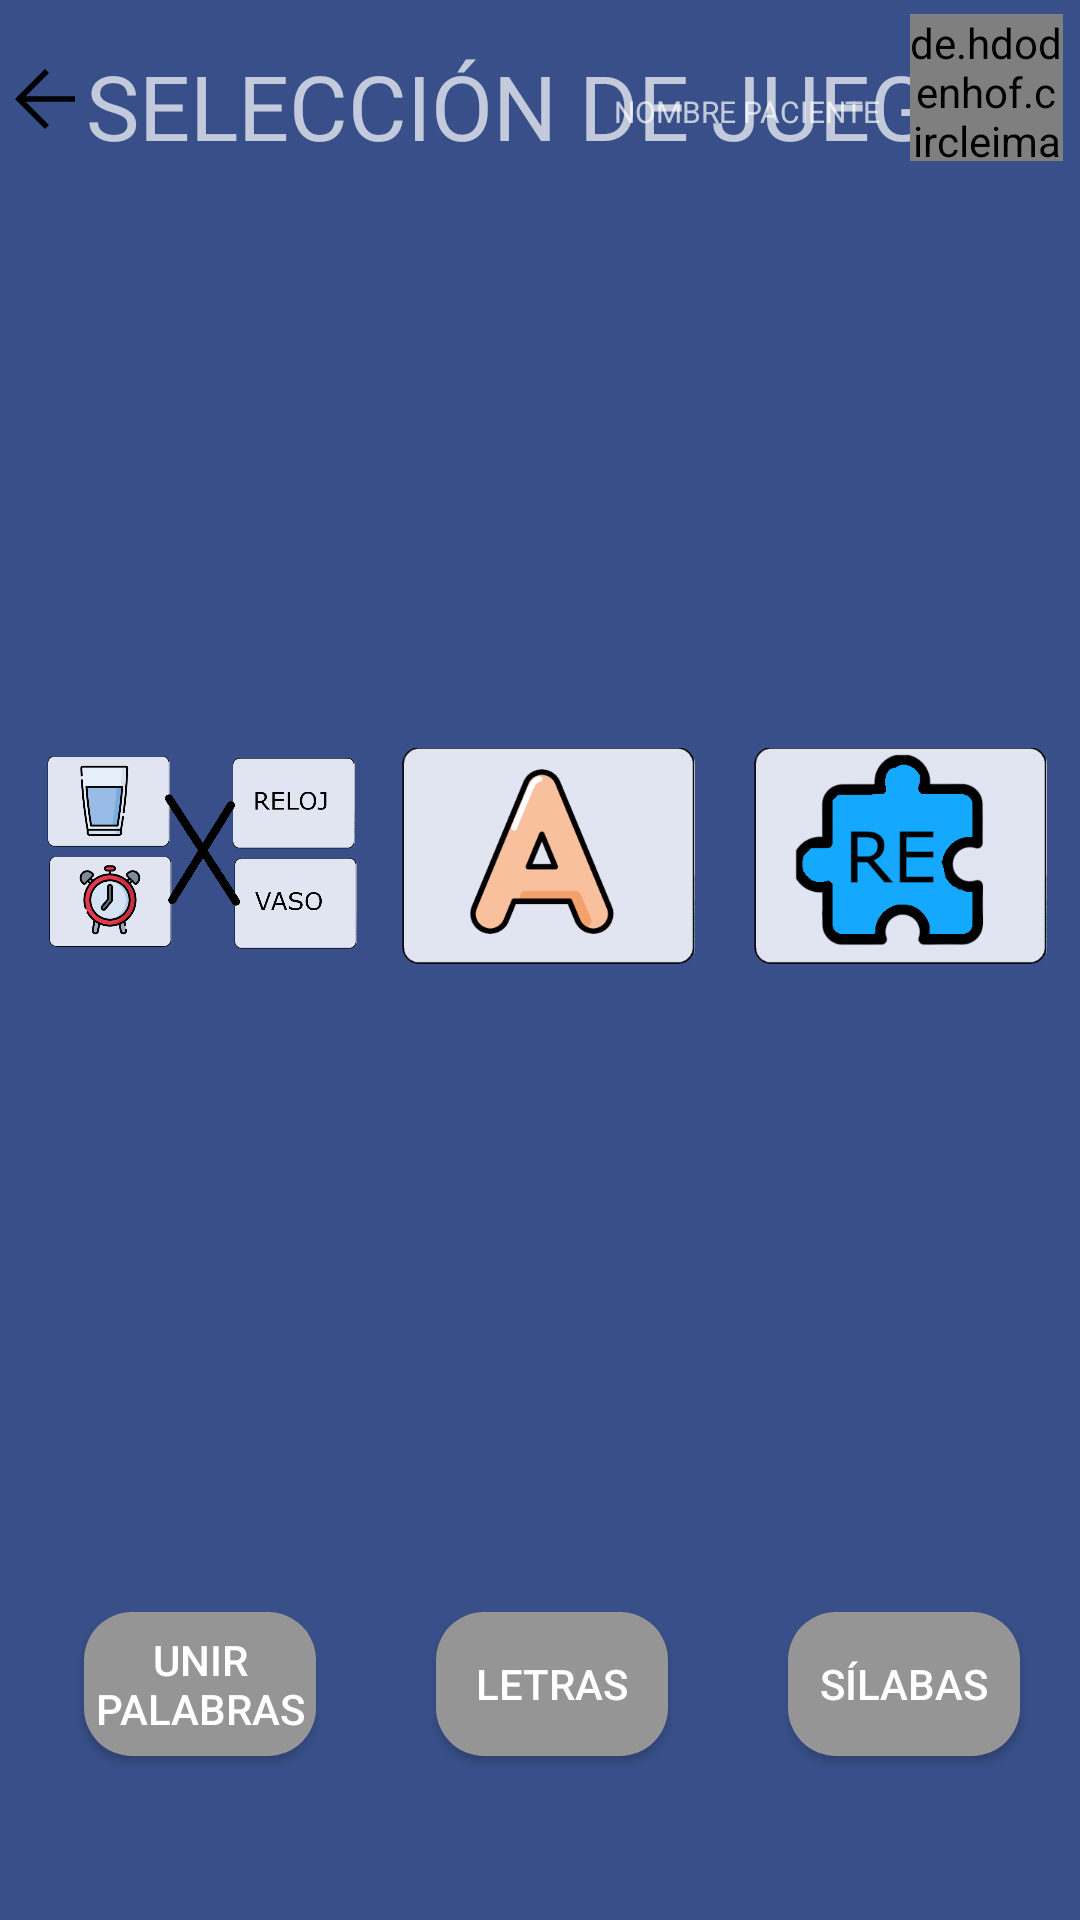

Where to tap for icons on this 1080w x 1920h app screen, as (x=x, y=y):
arrow back android: (x=45, y=99)
join words: (x=202, y=852)
letters: (x=548, y=856)
syllable: (x=900, y=856)
